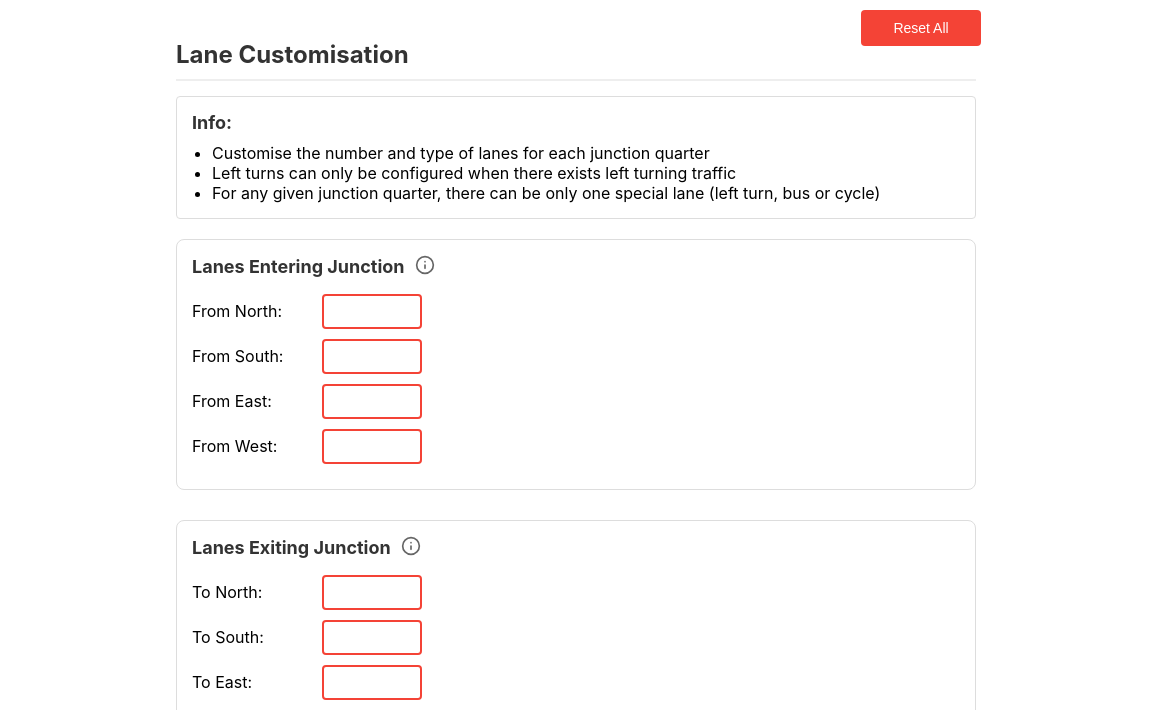
Test: LaneCustomisation Component › Input Validation › input validation: restricts input to min 0 lanes
This screenshot has width=1152, height=710.
// Attempt to enter negative value
Type "-2" into the number field labelled "From North:" at (372, 311), box [322,294,422,329]
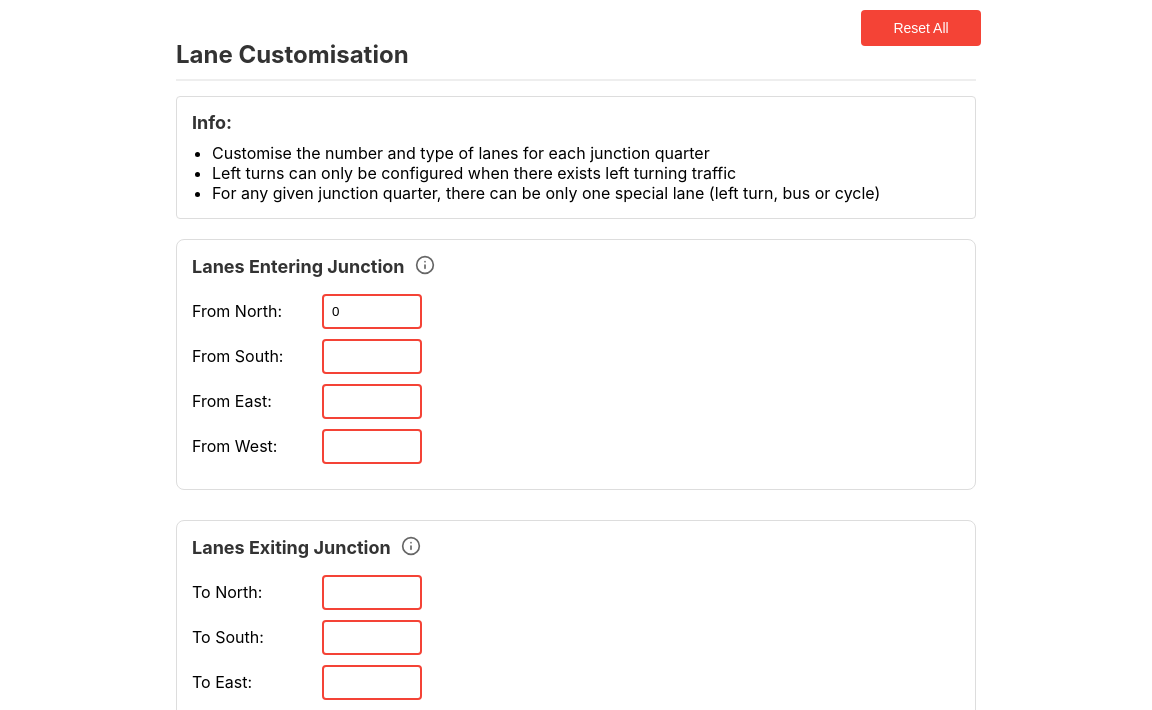
Now the number field labelled "From North:" holds "0", box [322,294,422,329]
